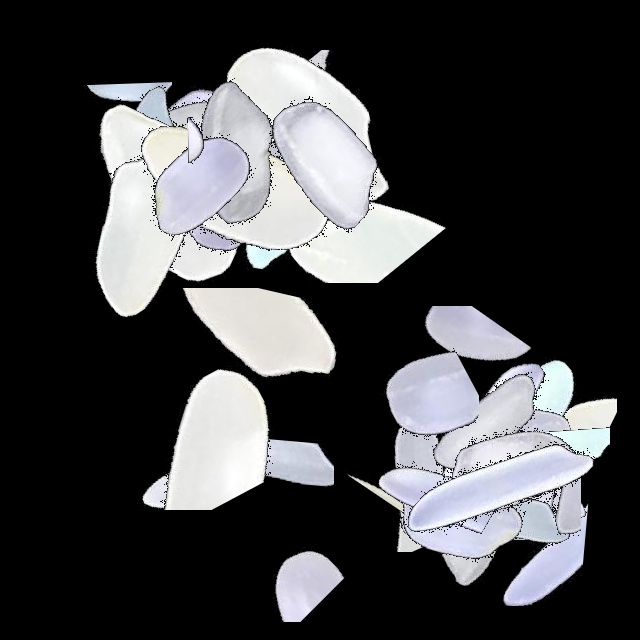Broken: (293, 362, 543, 534), (468, 308, 640, 558), (393, 353, 555, 603), (66, 349, 316, 510), (390, 390, 640, 547), (298, 407, 548, 558), (328, 289, 479, 539), (124, 288, 374, 436), (164, 52, 308, 302), (192, 385, 334, 635), (469, 367, 611, 617), (130, 300, 269, 550), (390, 468, 640, 606), (325, 306, 575, 441), (270, 420, 520, 552), (228, 153, 478, 283), (149, 497, 399, 622), (462, 351, 581, 601), (491, 366, 610, 616), (136, 0, 250, 250), (215, 50, 465, 157), (66, 12, 172, 262), (513, 333, 610, 583), (233, 102, 322, 352), (154, 0, 243, 250), (187, 0, 275, 250), (344, 324, 430, 574), (533, 277, 617, 527), (390, 459, 640, 540)
Full: (87, 8, 337, 258), (352, 390, 602, 640), (98, 37, 348, 287), (148, 20, 398, 270), (390, 363, 640, 613), (390, 351, 640, 601), (101, 7, 351, 257), (390, 309, 640, 559), (38, 69, 288, 319), (94, 73, 344, 323), (26, 101, 276, 351), (390, 359, 640, 609), (113, 60, 363, 310), (179, 0, 429, 250), (364, 317, 614, 567), (358, 297, 608, 547), (381, 351, 631, 601), (373, 364, 623, 614), (107, 30, 357, 280), (72, 58, 322, 308), (201, 34, 451, 284)
